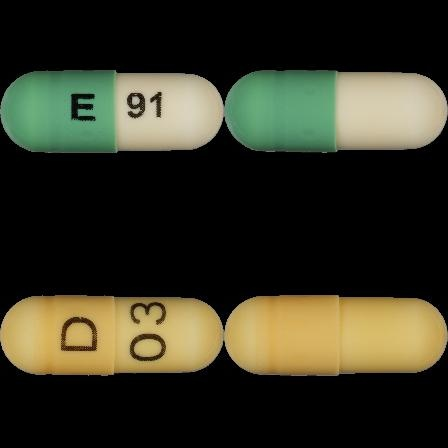65862-193: (0, 0, 224, 224)
